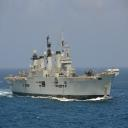Portanaves: (5, 29, 121, 100)
